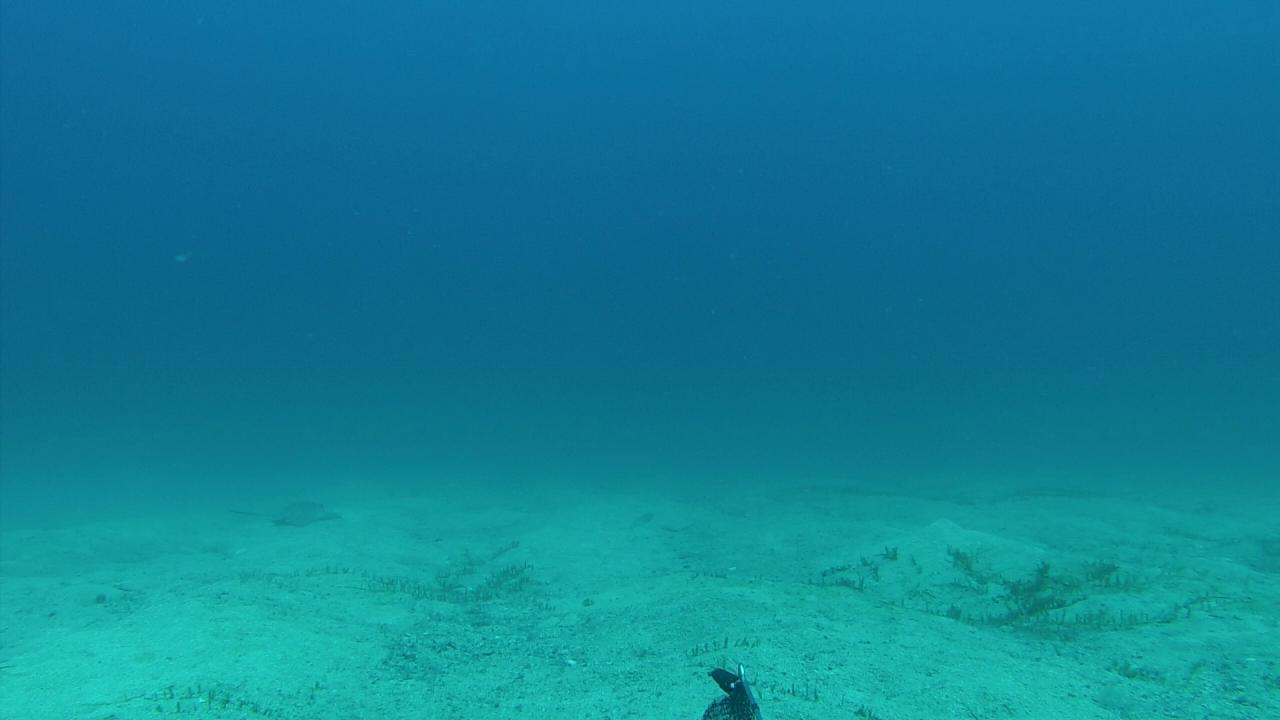dasyatis: (225, 498, 338, 527)
